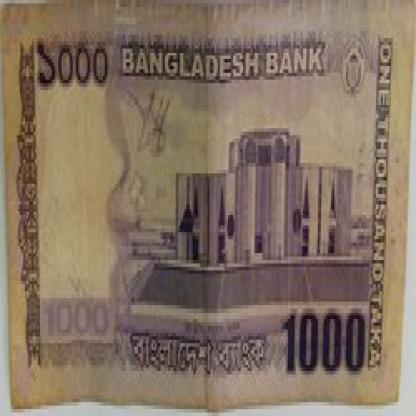One Thousand taka: (278, 309, 368, 382), (34, 35, 112, 100), (42, 302, 113, 343)
